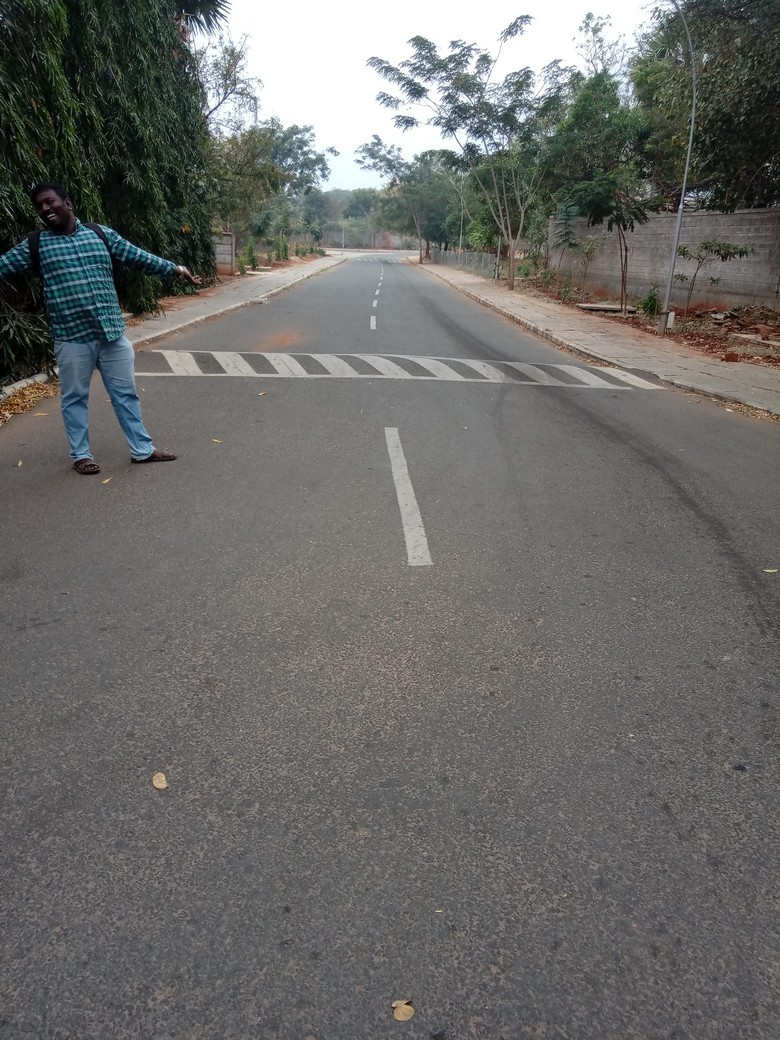bump: (133, 346, 665, 388)
